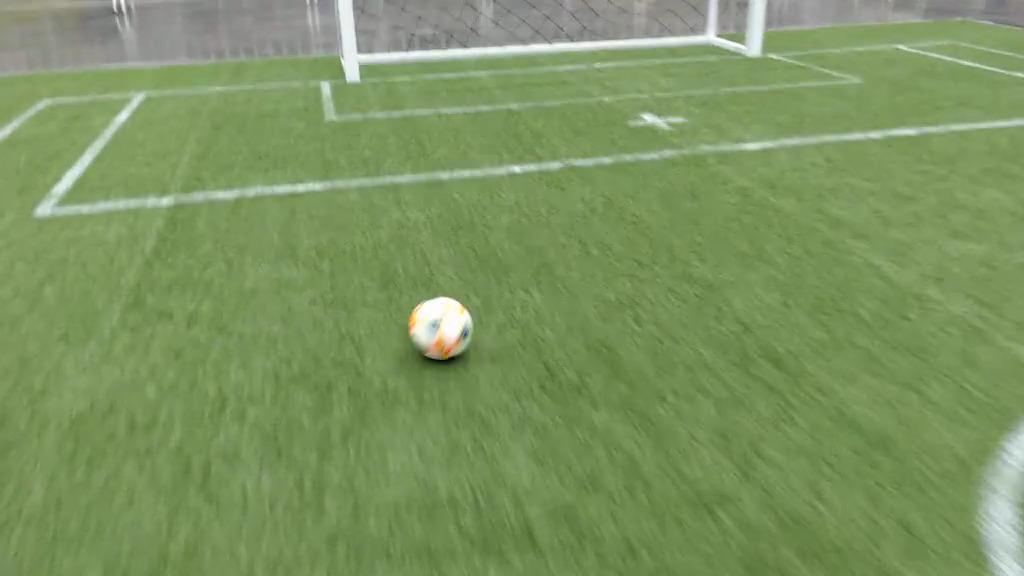ball: (410, 296, 473, 362)
